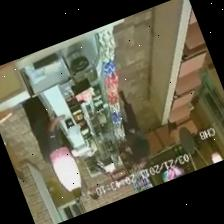person: (21, 97, 63, 163), (118, 90, 149, 168), (79, 170, 98, 199), (80, 175, 98, 199)
